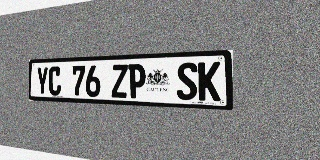6: (86, 65, 100, 97)
7: (71, 66, 85, 97)
C: (49, 66, 61, 96)
K: (198, 61, 220, 101)
P: (128, 64, 146, 99)
S: (177, 62, 197, 100)
Y: (36, 67, 48, 95)
Z: (111, 64, 128, 98)
